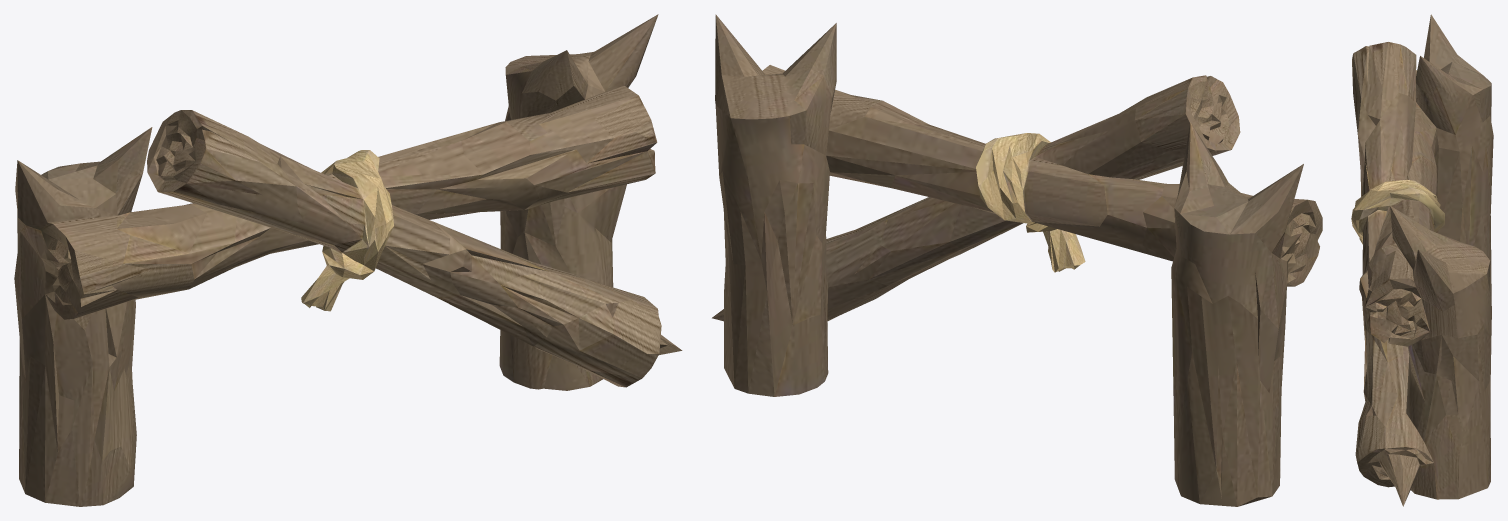
File: gwana_fence.glb
3 renders of one model, left to right at view 1: azimuth 30°, elevation 25°; view 2: azimuth 150°, elevation 25°; view 3: azimuth 270°, elevation 25°, orthographic. The views are drawn at different scales.
Bounding box in the file's own units: 1.9 × 1.08 × 0.478.
1 material, 1 textured.
